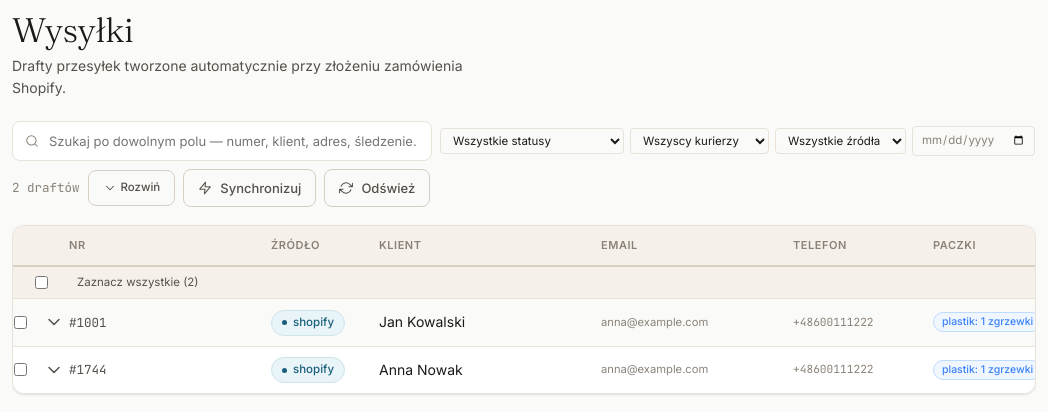
ShippingView › finds a draft by a tracking number the table never shows in a column
Expected: the text "Jan Kowalski" is shown, [379,314,465,330]
In the field with placeholder "Szukaj po dowolnym polu — numer, klient, adres, śledzenie…": (233, 141) [47,130,419,152], type "523000015146050147436114"
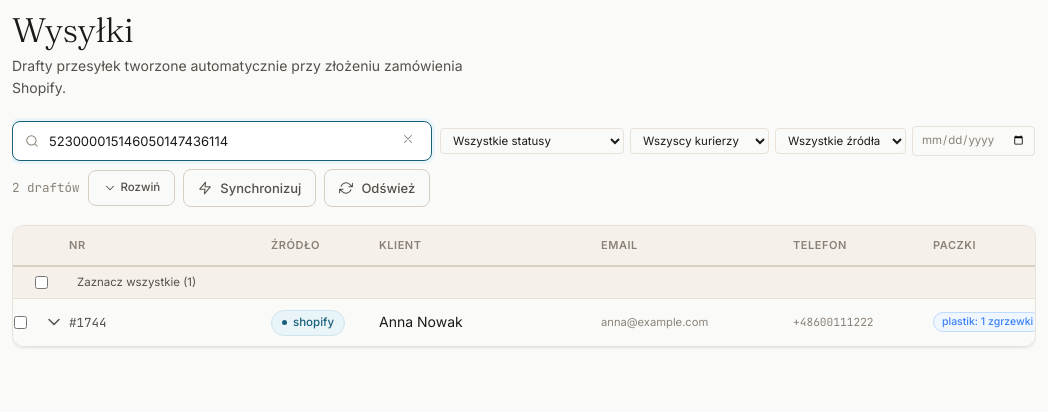
Expected: the text "Anna Nowak" is shown, [379,314,463,330]
Expected: the text "Jan Kowalski" is gone
